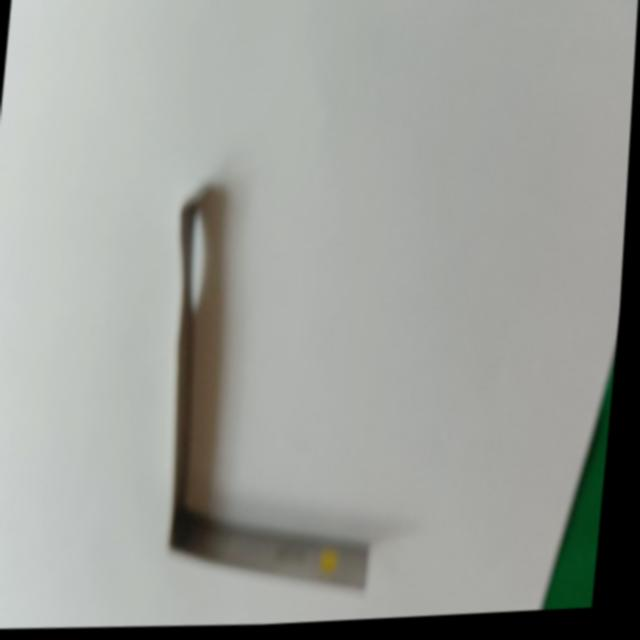AustinRetractor: (138, 159, 417, 609)
